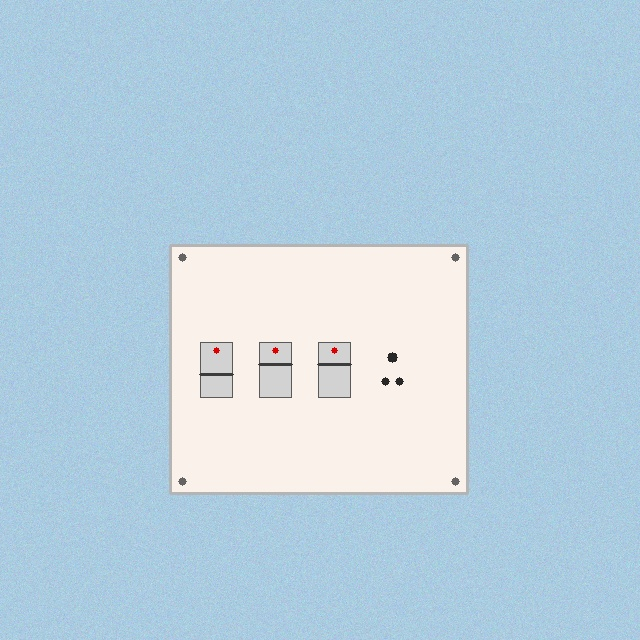switchboard: (170, 245, 467, 493)
